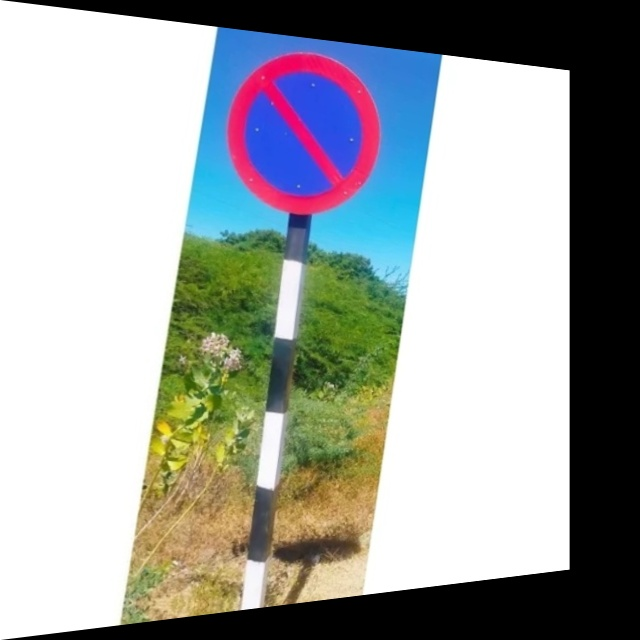No_Stopping_or_Standing: (224, 34, 382, 226)
